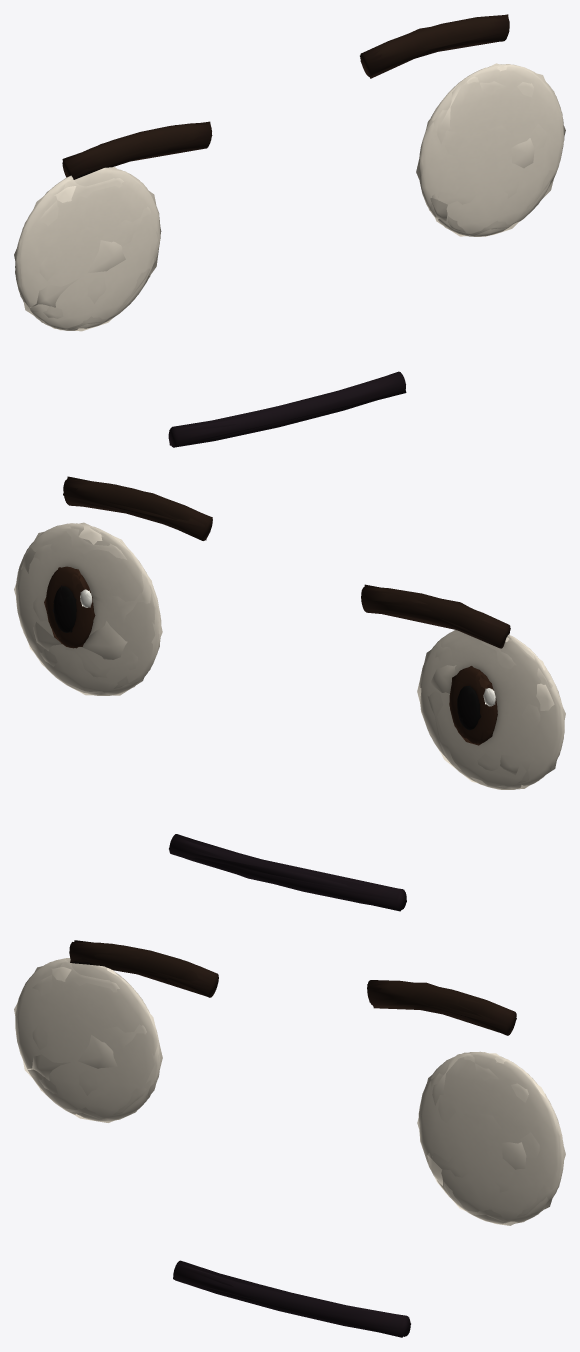
File: curious.glb
The picture shows the model from 3 angles, top to bottom: view 1: azimuth 30°, elevation 25°; view 2: azimuth 150°, elevation 25°; view 3: azimuth 330°, elevation 25°; orthographic projection.
Visible parts, largest first — view 1: near, mid, far; view 2: near, mid, far; view 3: near, mid, far.
Boxes of the visible parts, box(x1,y1,x2,y2) form: near: box(15, 16, 564, 447); mid: box(15, 15, 564, 447); far: box(14, 14, 565, 445); near: box(16, 479, 564, 909); mid: box(16, 480, 564, 909); far: box(14, 476, 565, 911); near: box(15, 942, 563, 1336); mid: box(15, 942, 563, 1336); far: box(14, 940, 565, 1337).
Bounding box in the file's own units: 0.8344 × 0.523 × 0.0552.
Materials: 6 (6 with a texture image).
